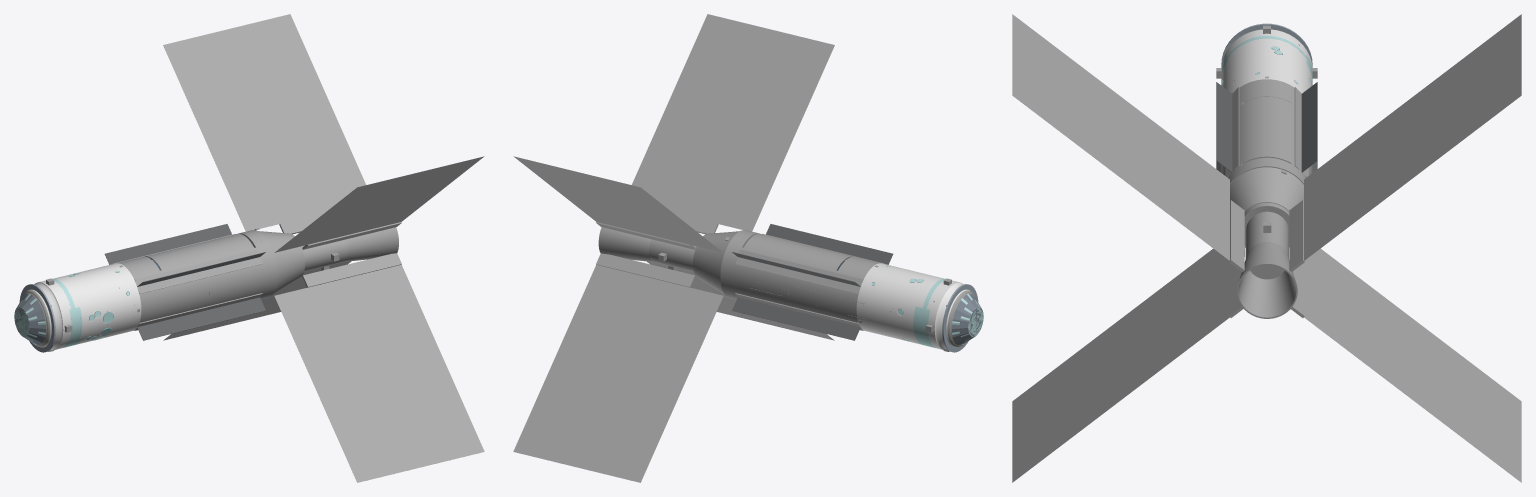
The model's file is wayfarer_shuttle_hold_fullship_88ce19fc_metric_hard_closed.glb.
3 views of the same model, side by side, from view 1: azimuth 30°, elevation 25°; view 2: azimuth 150°, elevation 25°; view 3: azimuth 270°, elevation 25° (orthographic). The views are drawn at different scales.
Visible parts, largest first — view 1: dry:hotfin_220:folded_envelope, dry:hotfin_40:folded_envelope, dry:hotfin_140:folded_envelope, dry:armor, dry:skin_midship, dry:strake_220:extended_pleat_00, dry:strake_140:stowed_stack, dry:strake_40:extended_pleat_00, dry:thrust_cone, dry:skin_service, dry:door_port, dry:hotfin_root_220:root (+7 smaller); view 2: dry:hotfin_320:folded_envelope, dry:hotfin_140:folded_envelope, dry:hotfin_40:folded_envelope, dry:armor, dry:skin_midship, dry:strake_320:extended_pleat_00, dry:strake_40:stowed_stack, dry:strake_140:extended_pleat_00, dry:skin_service, dry:thrust_cone, dry:door_starboard, dry:hotfin_root_320:root (+7 smaller); view 3: dry:hotfin_40:folded_envelope, dry:hotfin_140:folded_envelope, dry:hotfin_220:folded_envelope, dry:hotfin_320:folded_envelope, dry:armor, dry:nozzle, dry:thrust_cone, dry:reactor, dry:door_port, dry:door_starboard, dry:strake_40:extended_pleat_00, dry:strake_140:extended_pleat_00 (+9 smaller).
Part boxes in pixels (left/top/right/bottom): dry:hotfin_220:folded_envelope: left=274, top=264, right=484, bottom=482; dry:hotfin_40:folded_envelope: left=163, top=14, right=365, bottom=231; dry:hotfin_140:folded_envelope: left=274, top=156, right=484, bottom=252; dry:armor: left=23, top=263, right=141, bottom=350; dry:skin_midship: left=160, top=247, right=263, bottom=316; dry:strake_220:extended_pleat_00: left=137, top=297, right=265, bottom=340; dry:strake_140:stowed_stack: left=134, top=249, right=262, bottom=293; dry:strake_40:extended_pleat_00: left=104, top=224, right=231, bottom=264; dry:thrust_cone: left=258, top=231, right=304, bottom=293; dry:skin_service: left=117, top=256, right=168, bottom=330; dry:door_port: left=152, top=236, right=253, bottom=270; dry:hotfin_root_220:root: left=302, top=253, right=401, bottom=287; dry:hotfin_320:folded_envelope: left=513, top=264, right=723, bottom=482; dry:hotfin_140:folded_envelope: left=632, top=14, right=834, bottom=231; dry:hotfin_40:folded_envelope: left=513, top=156, right=723, bottom=252; dry:armor: left=856, top=263, right=974, bottom=350; dry:skin_midship: left=734, top=247, right=837, bottom=316; dry:strake_320:extended_pleat_00: left=732, top=297, right=860, bottom=340; dry:strake_40:stowed_stack: left=735, top=249, right=863, bottom=293; dry:strake_140:extended_pleat_00: left=766, top=224, right=893, bottom=264; dry:skin_service: left=829, top=256, right=880, bottom=330; dry:thrust_cone: left=693, top=231, right=739, bottom=293; dry:door_starboard: left=744, top=236, right=845, bottom=270; dry:hotfin_root_320:root: left=596, top=253, right=695, bottom=287; dry:hotfin_40:folded_envelope: left=1304, top=14, right=1521, bottom=260; dry:hotfin_140:folded_envelope: left=1012, top=14, right=1229, bottom=260; dry:hotfin_220:folded_envelope: left=1012, top=248, right=1229, bottom=482; dry:hotfin_320:folded_envelope: left=1304, top=248, right=1521, bottom=482; dry:armor: left=1221, top=29, right=1312, bottom=93; dry:nozzle: left=1237, top=242, right=1297, bottom=318; dry:thrust_cone: left=1230, top=167, right=1303, bottom=247; dry:reactor: left=1245, top=211, right=1288, bottom=279; dry:door_port: left=1242, top=97, right=1266, bottom=163; dry:door_starboard: left=1267, top=97, right=1291, bottom=163; dry:strake_40:extended_pleat_00: left=1301, top=82, right=1317, bottom=172; dry:strake_140:extended_pleat_00: left=1216, top=82, right=1232, bottom=172.
Bounding box in the file's own units: 54.5 × 42.11 × 50.18.
